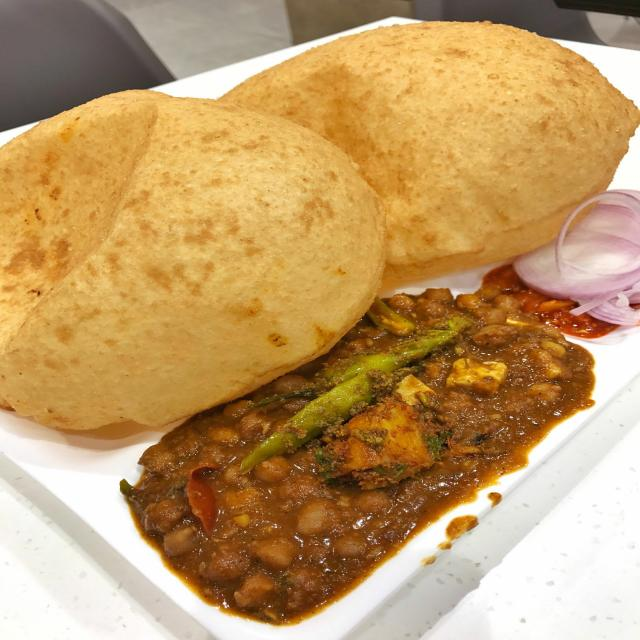Bhatura: (4, 88, 382, 431), (198, 23, 630, 271)
Chole: (131, 285, 593, 611)
